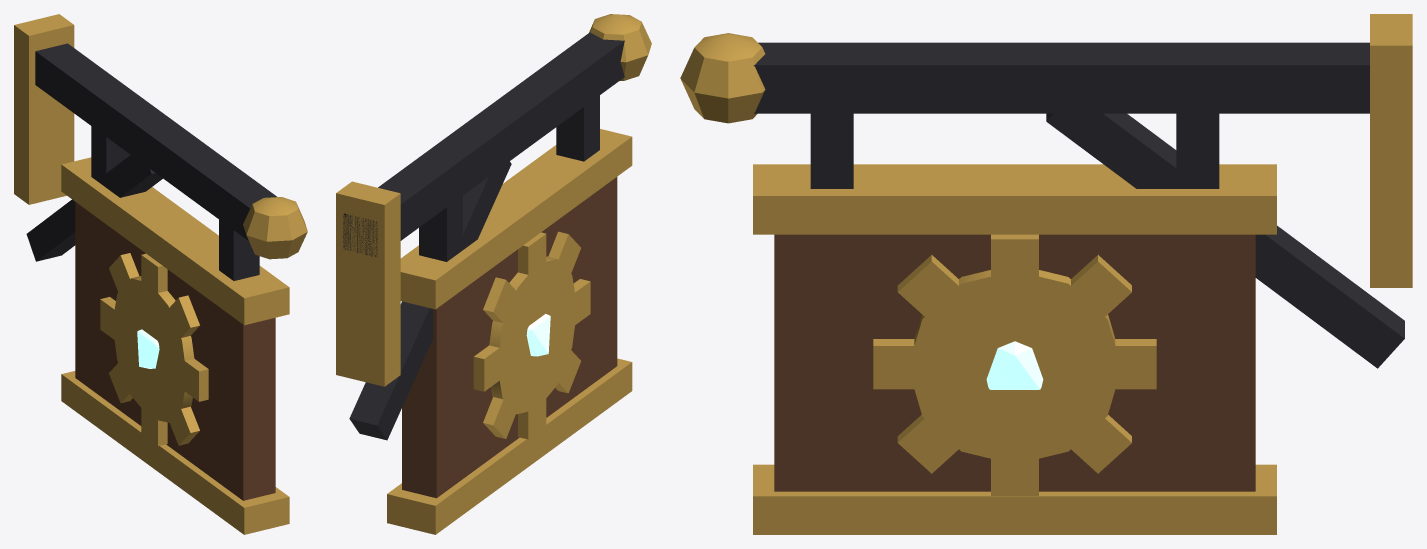
The model's file is PlacaPendurada.fbx.
The picture shows the model from 3 angles, left to right: view 1: azimuth 30°, elevation 25°; view 2: azimuth 150°, elevation 25°; view 3: azimuth 270°, elevation 25°; orthographic projection. The views are drawn at different scales.
Visible parts, largest first — view 1: Placa, Corpo; view 2: Placa, Corpo; view 3: Placa, Corpo.
Part boxes in pixels (left/top/right/bottom): Placa: left=61, top=126, right=289, bottom=534; Corpo: left=14, top=14, right=307, bottom=261; Placa: left=387, top=95, right=632, bottom=534; Corpo: left=336, top=14, right=651, bottom=440; Placa: left=753, top=113, right=1276, bottom=534; Corpo: left=680, top=14, right=1412, bottom=368.
Size of the model in its own units: 0.2254 by 1.01 by 1.37.
